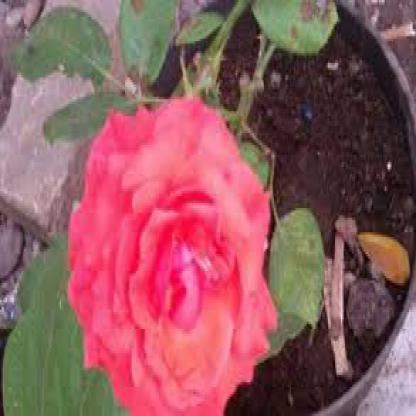Rose-Mawar: (63, 95, 278, 415)
